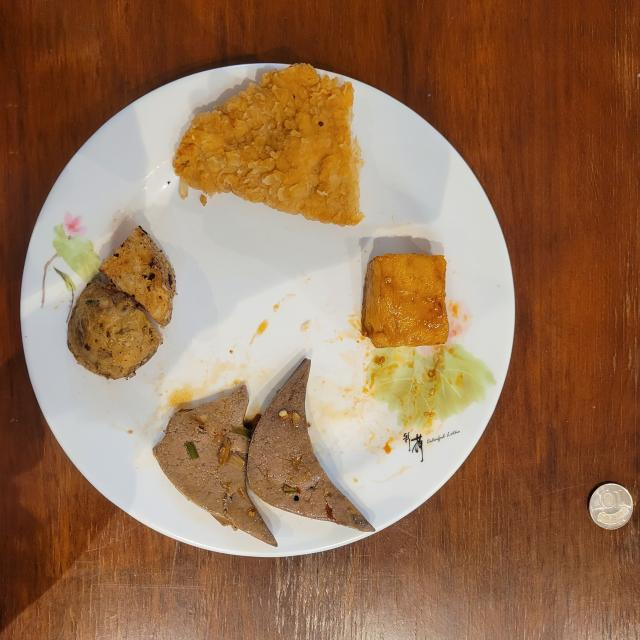coin: (589, 484, 632, 529)
creamy tofu: (361, 254, 449, 348)
fried chicken cutlet: (174, 64, 364, 226)
fried potato: (68, 226, 176, 379)
pig liver: (154, 359, 374, 546)
